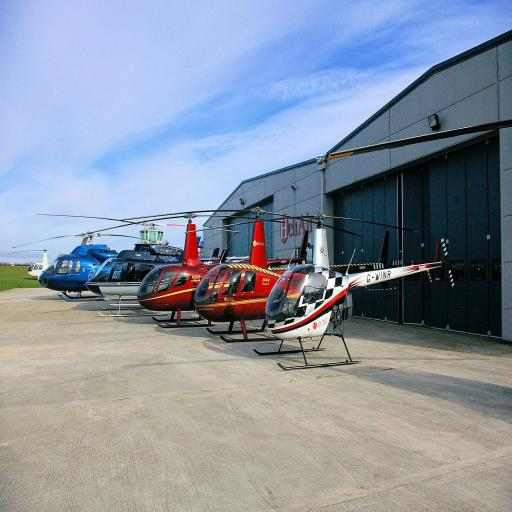helicopter: (257, 203, 471, 384), (186, 208, 323, 352), (131, 205, 237, 338), (26, 205, 132, 329), (83, 208, 177, 332), (17, 234, 58, 289)
